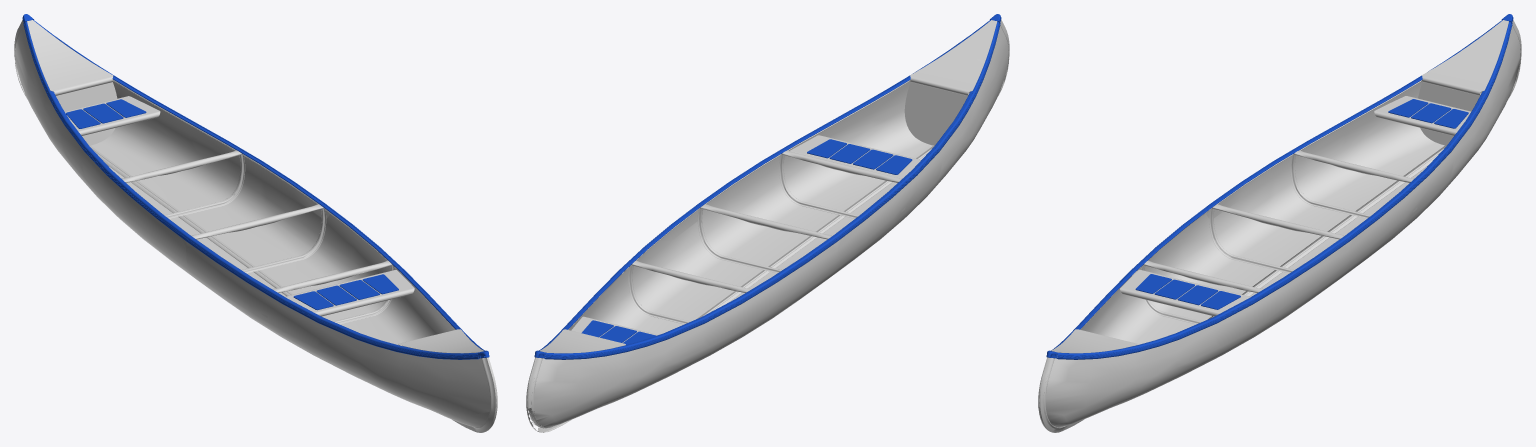
File: canoe.glb
3 renders of one model, left to right at view 1: azimuth 30°, elevation 25°; view 2: azimuth 150°, elevation 25°; view 3: azimuth 330°, elevation 25°, orthographic.
Visible parts, largest first — view 1: leftinner, left, linderblå002, eluxerad001, alu, lindeblå.002, sitsaralu; view 2: leftinner, left, eluxerad001, linderblå002, alu, lindeblå.002, sitsaralu; view 3: leftinner, eluxerad001, linderblå002, alu, lindeblå.002, sitsaralu.
Boxes of the visible parts, <box> form: leftinner: <box>71,81,454,411</box>; left: <box>15,26,490,427</box>; linderblå002: <box>22,14,489,359</box>; eluxerad001: <box>14,20,497,432</box>; alu: <box>27,20,483,353</box>; lindeblå.002: <box>66,99,398,310</box>; sitsaralu: <box>65,96,414,316</box>; leftinner: <box>528,81,961,425</box>; left: <box>528,26,1008,427</box>; eluxerad001: <box>526,19,1009,432</box>; linderblå002: <box>534,14,1001,359</box>; alu: <box>539,20,997,353</box>; lindeblå.002: <box>581,139,912,344</box>; sitsaralu: <box>571,135,920,342</box>; leftinner: <box>1045,26,1520,427</box>; eluxerad001: <box>1038,20,1521,432</box>; linderblå002: <box>1046,14,1513,359</box>; alu: <box>1051,20,1508,353</box>; lindeblå.002: <box>1135,99,1468,309</box>; sitsaralu: <box>1120,96,1470,316</box>.
Bounding box in the file's own units: 19.86 × 12.61 × 119.
